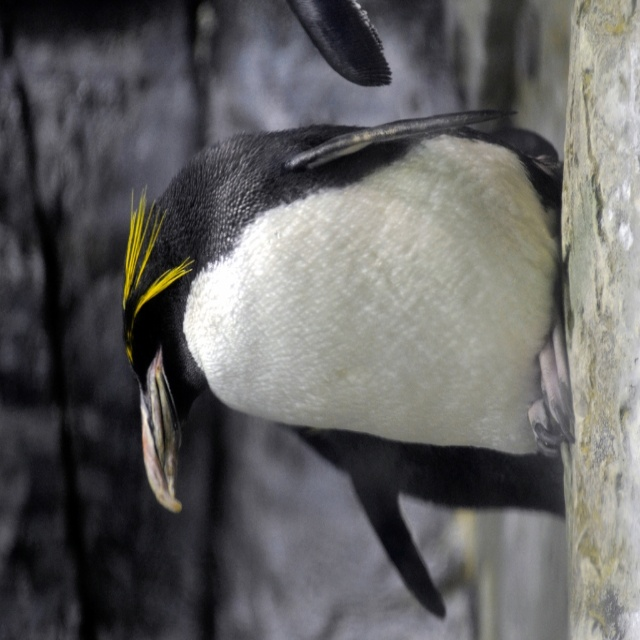Penguin: (122, 112, 575, 621), (286, 0, 391, 85)
